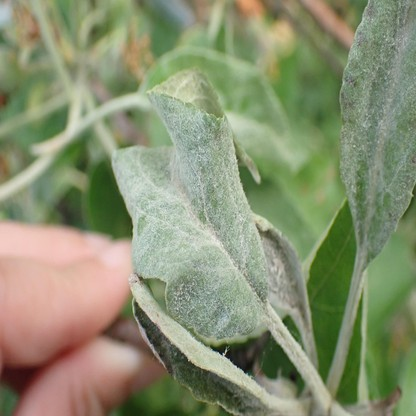powdery_mildew: (114, 68, 278, 340), (130, 274, 292, 416), (341, 0, 416, 262), (253, 217, 303, 307)
